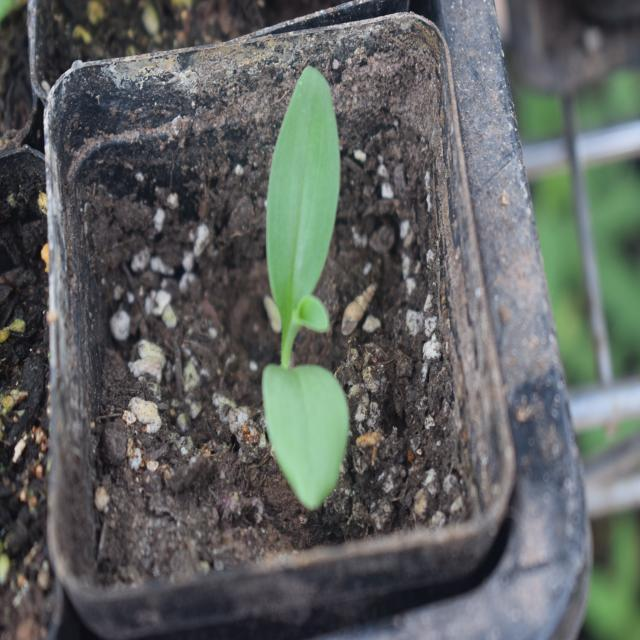Common Dayflower: (244, 57, 406, 516)
